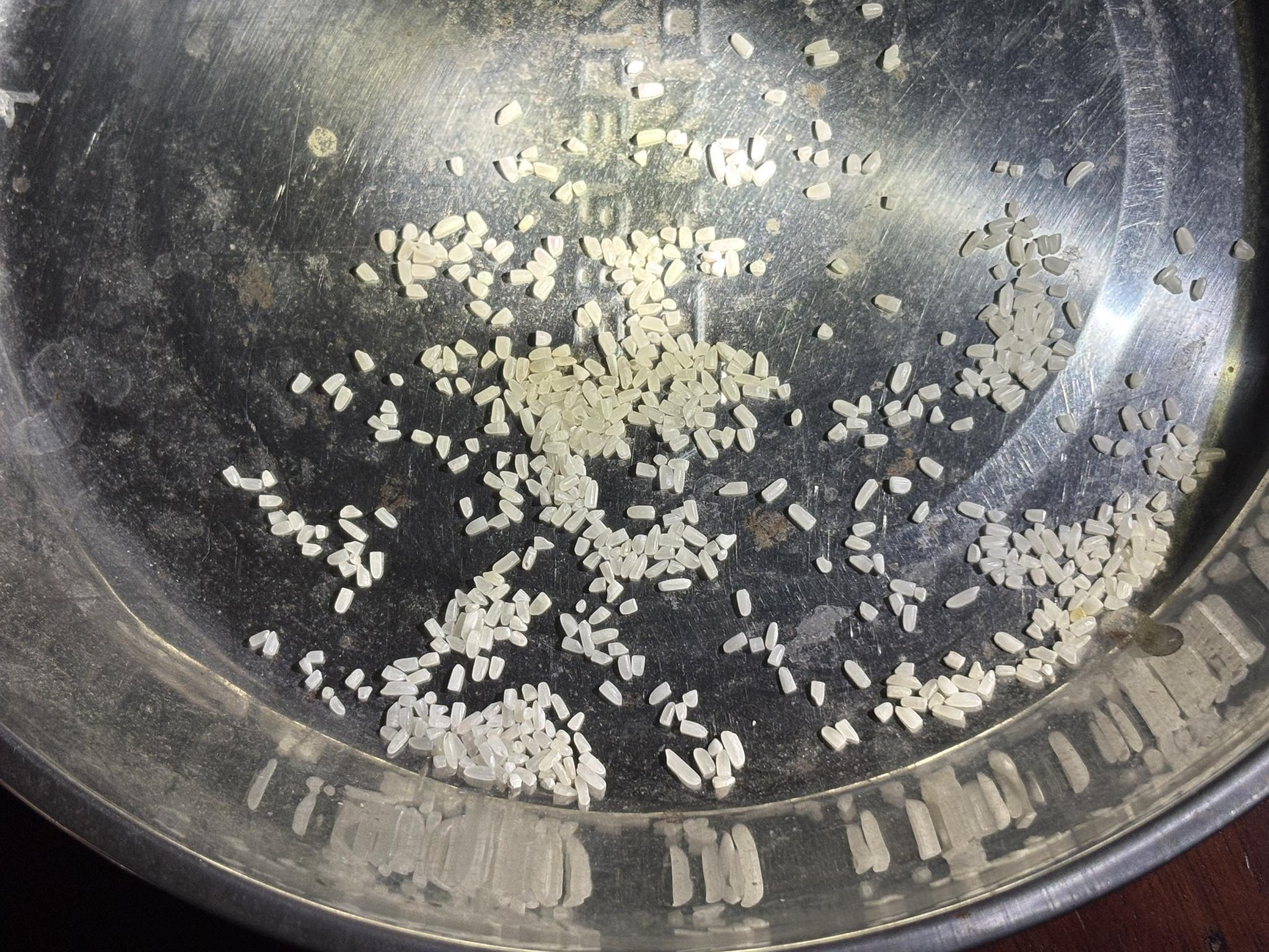Rice-th-y-nh: (1204, 592, 1263, 663), (381, 806, 432, 877), (986, 748, 1035, 819), (1047, 728, 1093, 795), (901, 796, 945, 862), (855, 809, 895, 873), (661, 844, 700, 907), (729, 823, 768, 885), (841, 824, 877, 876), (663, 747, 704, 791), (245, 758, 278, 810), (659, 332, 687, 369), (705, 142, 730, 181), (692, 427, 720, 461), (574, 619, 599, 657), (577, 762, 607, 792), (1039, 552, 1067, 584), (788, 502, 817, 532), (994, 282, 1018, 318), (853, 478, 879, 511), (844, 659, 872, 689), (627, 279, 653, 311), (1030, 309, 1056, 341), (946, 585, 980, 609), (894, 705, 924, 732), (960, 228, 986, 259), (496, 153, 522, 184), (692, 747, 717, 779), (1063, 522, 1085, 558), (563, 505, 589, 535), (498, 497, 525, 525), (456, 710, 485, 736), (1040, 528, 1065, 558), (732, 403, 759, 430), (579, 751, 607, 777), (674, 545, 702, 571), (642, 524, 664, 557), (492, 550, 521, 575), (1120, 405, 1145, 434), (473, 383, 502, 408), (338, 518, 368, 542), (538, 403, 562, 433), (580, 379, 604, 409), (696, 549, 719, 580), (1005, 236, 1028, 267), (835, 718, 861, 745), (820, 725, 847, 751), (533, 246, 558, 274), (753, 159, 778, 187), (681, 524, 709, 549), (469, 653, 492, 683), (888, 671, 922, 691), (762, 478, 788, 504), (491, 239, 516, 266), (387, 728, 411, 756), (550, 500, 574, 528), (734, 425, 757, 454), (626, 501, 656, 523), (484, 598, 506, 628), (462, 629, 484, 659), (648, 681, 673, 707), (719, 375, 743, 402), (722, 631, 749, 655), (532, 275, 556, 302), (628, 320, 651, 348), (582, 234, 605, 262), (638, 403, 666, 426), (549, 692, 571, 721), (583, 299, 605, 328), (639, 314, 669, 335), (598, 237, 619, 267), (607, 401, 633, 425), (918, 456, 944, 480), (502, 389, 525, 416), (597, 330, 620, 357), (1102, 551, 1125, 578), (1025, 529, 1048, 556), (553, 178, 576, 205), (516, 408, 538, 436), (394, 259, 416, 287), (1042, 254, 1071, 275), (992, 383, 1021, 404), (466, 275, 490, 300), (321, 372, 346, 396), (1001, 390, 1025, 415), (987, 314, 1012, 338), (644, 557, 670, 580), (1030, 344, 1053, 370), (550, 760, 572, 787), (890, 577, 917, 599), (528, 425, 550, 452), (558, 612, 580, 639), (511, 356, 533, 383), (582, 479, 601, 510), (629, 553, 650, 581), (1069, 615, 1097, 636), (874, 292, 902, 313), (439, 346, 460, 374), (957, 500, 986, 520), (1015, 664, 1044, 684), (545, 233, 568, 258), (486, 734, 509, 759), (631, 365, 654, 390), (468, 299, 493, 322), (692, 409, 718, 431), (813, 117, 835, 143), (1117, 570, 1144, 591), (512, 453, 533, 480), (615, 654, 636, 681), (1067, 588, 1090, 612), (526, 259, 550, 282), (374, 506, 398, 529), (486, 580, 510, 603), (1029, 645, 1058, 664), (592, 526, 614, 551), (661, 351, 683, 376), (699, 369, 720, 395), (487, 655, 508, 681), (617, 385, 643, 406), (656, 464, 677, 490), (334, 587, 355, 613), (551, 373, 578, 393), (715, 340, 738, 363), (538, 750, 561, 773), (995, 329, 1018, 352), (515, 765, 538, 788), (498, 468, 521, 491), (1032, 608, 1054, 632), (424, 616, 446, 640), (1092, 433, 1116, 455), (675, 332, 696, 357), (766, 643, 787, 668), (905, 394, 926, 419), (561, 636, 586, 657), (604, 579, 625, 604), (718, 425, 738, 451), (493, 335, 513, 361), (1165, 432, 1184, 459), (978, 533, 1008, 550), (354, 349, 376, 372), (588, 604, 611, 626), (888, 408, 912, 429), (675, 226, 696, 250), (635, 460, 659, 481), (900, 694, 928, 712), (670, 379, 694, 400), (1052, 337, 1076, 358), (573, 306, 594, 330), (483, 419, 511, 437), (849, 554, 874, 574), (658, 702, 678, 727), (476, 625, 496, 650), (626, 410, 651, 430), (454, 338, 479, 358), (500, 355, 519, 381), (605, 549, 624, 575), (393, 655, 420, 673), (446, 633, 468, 655), (1041, 598, 1063, 620), (1012, 219, 1034, 241), (520, 734, 542, 756), (467, 586, 489, 608), (583, 357, 606, 378), (566, 711, 587, 734), (659, 332, 680, 355), (482, 470, 505, 491), (472, 574, 495, 595), (447, 453, 470, 474), (1162, 397, 1182, 421), (549, 738, 573, 758), (573, 731, 593, 755), (844, 152, 864, 176), (984, 521, 1012, 538), (374, 427, 402, 444), (554, 487, 579, 506), (845, 534, 871, 552), (937, 675, 959, 696), (295, 524, 316, 546), (873, 702, 895, 723), (977, 302, 999, 323), (727, 147, 749, 168), (481, 700, 503, 721), (1012, 532, 1032, 555), (569, 454, 589, 477), (654, 544, 677, 564), (943, 650, 966, 670), (701, 347, 721, 370), (1087, 577, 1107, 600), (953, 380, 976, 400), (385, 701, 402, 728), (1082, 534, 1109, 551), (951, 415, 975, 434), (887, 592, 906, 616), (406, 668, 432, 685), (886, 683, 912, 700), (673, 349, 694, 370), (639, 389, 660, 410), (1114, 437, 1135, 458), (668, 432, 690, 452), (345, 668, 365, 690), (686, 139, 706, 161), (222, 465, 242, 487), (1096, 502, 1116, 524), (661, 242, 683, 262), (621, 334, 639, 358), (717, 134, 741, 152), (611, 266, 635, 284), (1104, 594, 1129, 611), (919, 678, 939, 699), (588, 575, 609, 595), (532, 729, 553, 749), (529, 453, 549, 474), (962, 367, 983, 387), (571, 362, 591, 383), (582, 551, 603, 571), (434, 376, 454, 397), (1081, 558, 1103, 577), (648, 280, 667, 302), (431, 240, 450, 262), (989, 370, 1012, 388), (715, 532, 738, 550), (327, 548, 350, 566), (1023, 240, 1041, 263), (597, 397, 615, 420), (590, 649, 613, 667), (482, 569, 506, 586), (979, 556, 1003, 573), (561, 756, 578, 780), (410, 735, 434, 752), (859, 601, 879, 621), (511, 698, 527, 723), (736, 162, 756, 182), (287, 511, 306, 532), (337, 560, 358, 579), (480, 349, 499, 370), (562, 389, 581, 410), (520, 682, 539, 703), (1115, 580, 1134, 601), (662, 309, 683, 328), (559, 473, 581, 491), (1115, 491, 1133, 513), (507, 615, 529, 633), (1019, 554, 1042, 571), (598, 372, 621, 389), (995, 349, 1012, 372), (524, 477, 543, 497), (856, 394, 875, 414), (1143, 455, 1162, 475), (538, 504, 558, 523), (1016, 359, 1035, 379), (687, 379, 708, 397), (249, 630, 270, 648), (699, 392, 720, 410), (453, 588, 471, 609), (500, 707, 518, 728), (344, 539, 366, 556), (759, 374, 781, 391), (502, 688, 519, 710), (367, 415, 389, 432), (1153, 509, 1175, 526), (397, 706, 413, 729), (748, 635, 767, 654), (305, 670, 323, 690), (1058, 577, 1076, 597), (1149, 442, 1169, 460), (494, 450, 512, 470), (430, 637, 451, 654), (710, 258, 727, 279), (673, 700, 689, 722), (1025, 623, 1044, 641), (1030, 567, 1048, 586), (379, 724, 398, 742), (476, 269, 495, 287), (454, 376, 472, 395), (1004, 574, 1024, 591), (626, 59, 646, 76), (413, 697, 429, 718), (1090, 545, 1111, 561), (425, 726, 446, 742), (1145, 539, 1167, 554), (1021, 656, 1043, 671), (990, 566, 1007, 585), (1072, 573, 1091, 590), (329, 696, 345, 716), (543, 718, 558, 739), (412, 717, 427, 738), (301, 542, 322, 557), (776, 382, 792, 401), (507, 773, 523, 792), (619, 538, 634, 558), (988, 546, 1009, 560), (261, 469, 277, 487), (725, 361, 744, 376), (298, 657, 313, 675), (539, 776, 557, 791), (790, 408, 804, 427), (399, 694, 417, 708), (357, 685, 373, 700), (976, 381, 990, 398), (700, 261, 713, 277)
